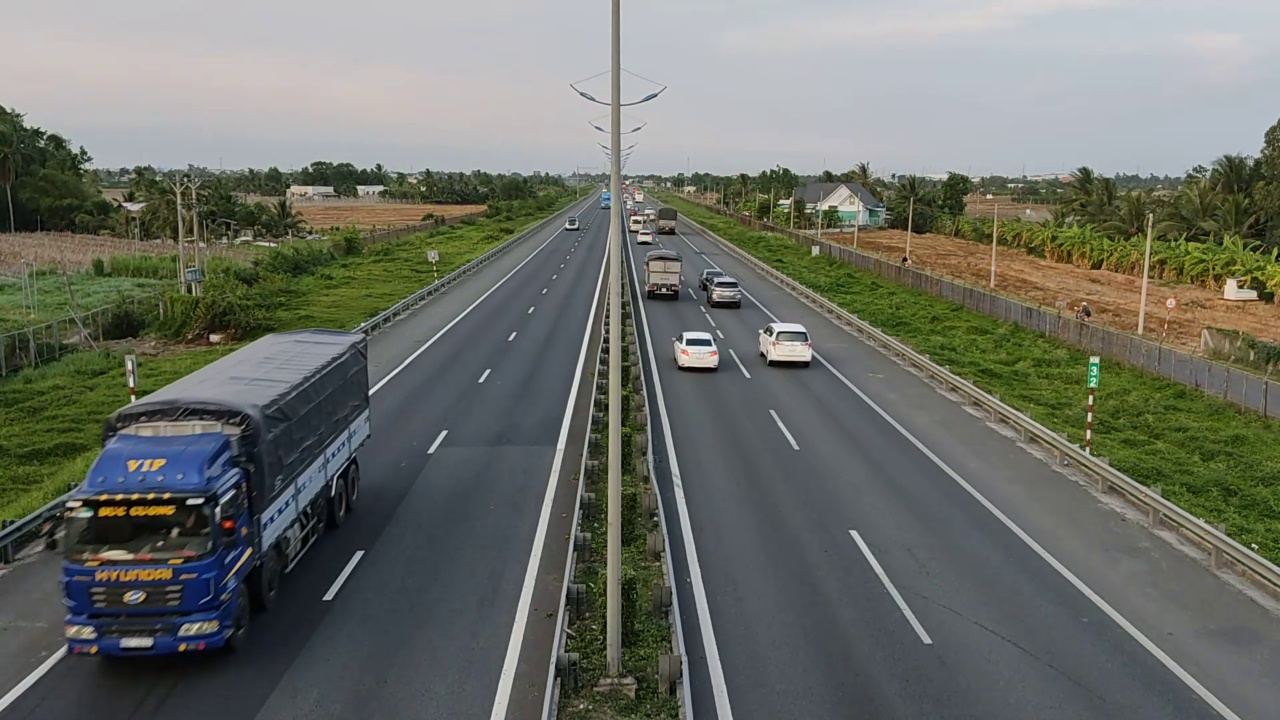car: (757, 321, 813, 368), (671, 330, 721, 371), (703, 274, 741, 306)
truck: (57, 328, 372, 660), (644, 249, 684, 300)
